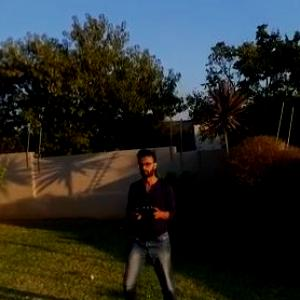follow: (121, 146, 180, 299)
